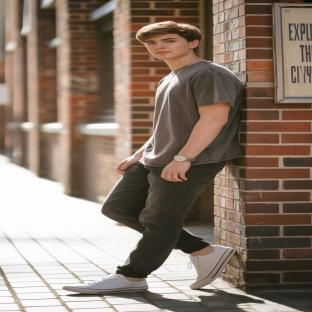Human: (64, 21, 243, 293)
